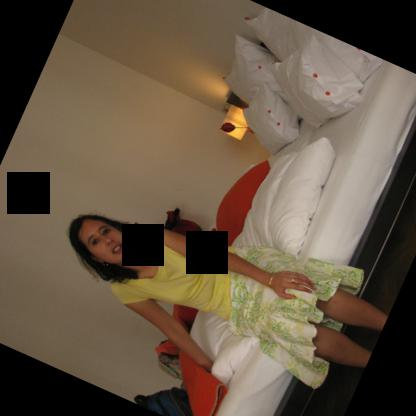backpack: (132, 385, 194, 416)
